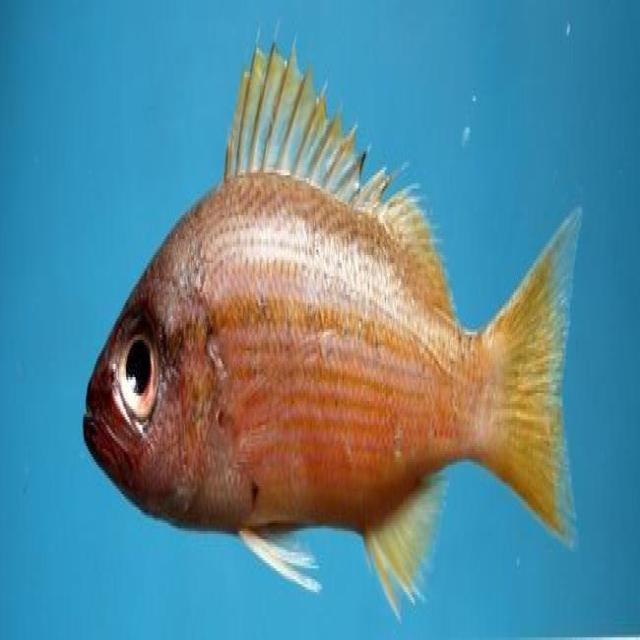ikan: (82, 32, 583, 621)
